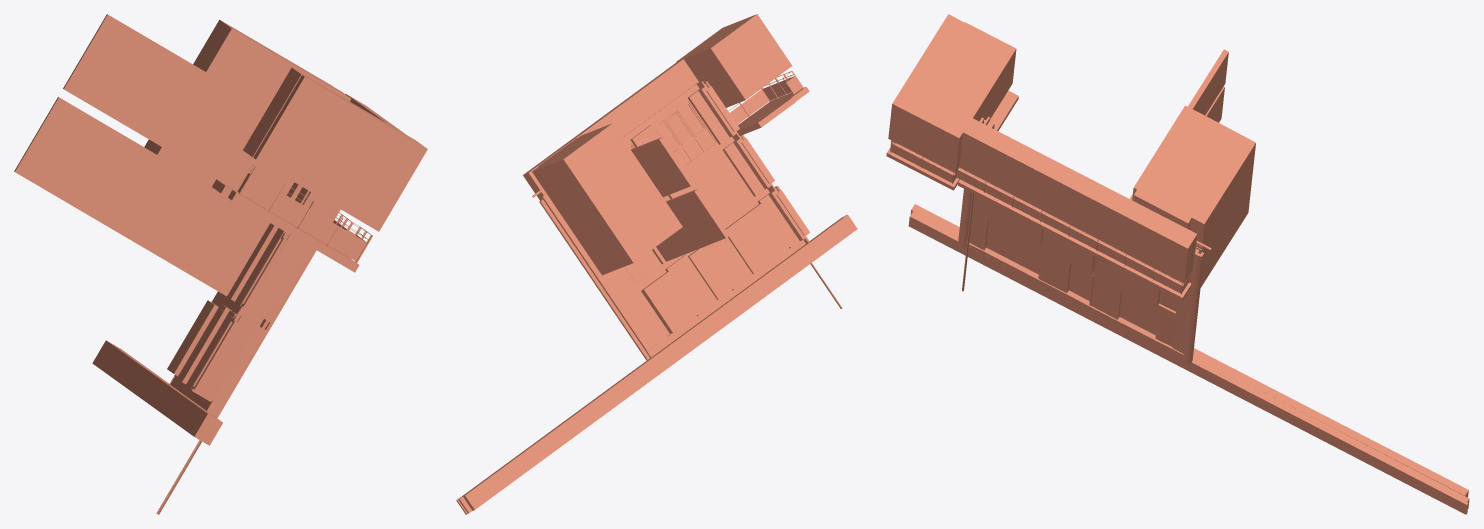
The picture shows the model from 3 angles, left to right: view 1: azimuth 30°, elevation 25°; view 2: azimuth 150°, elevation 25°; view 3: azimuth 270°, elevation 25°; orthographic projection. The views are drawn at different scales.
Visible parts, largest first — view 1: mesh; view 2: mesh; view 3: mesh.
Part boxes in pixels (x1=…): mesh: x1=14, y1=14, x2=427, y2=514; mesh: x1=456, y1=14, x2=857, y2=514; mesh: x1=886, y1=14, x2=1469, y2=514.
Size of the model in its own units: 12.59 by 19.31 by 22.58.
